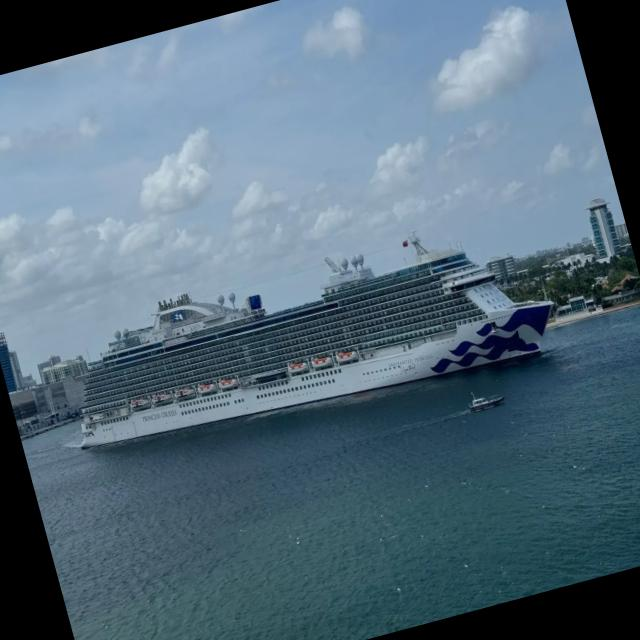Cruise: (79, 240, 553, 447)
